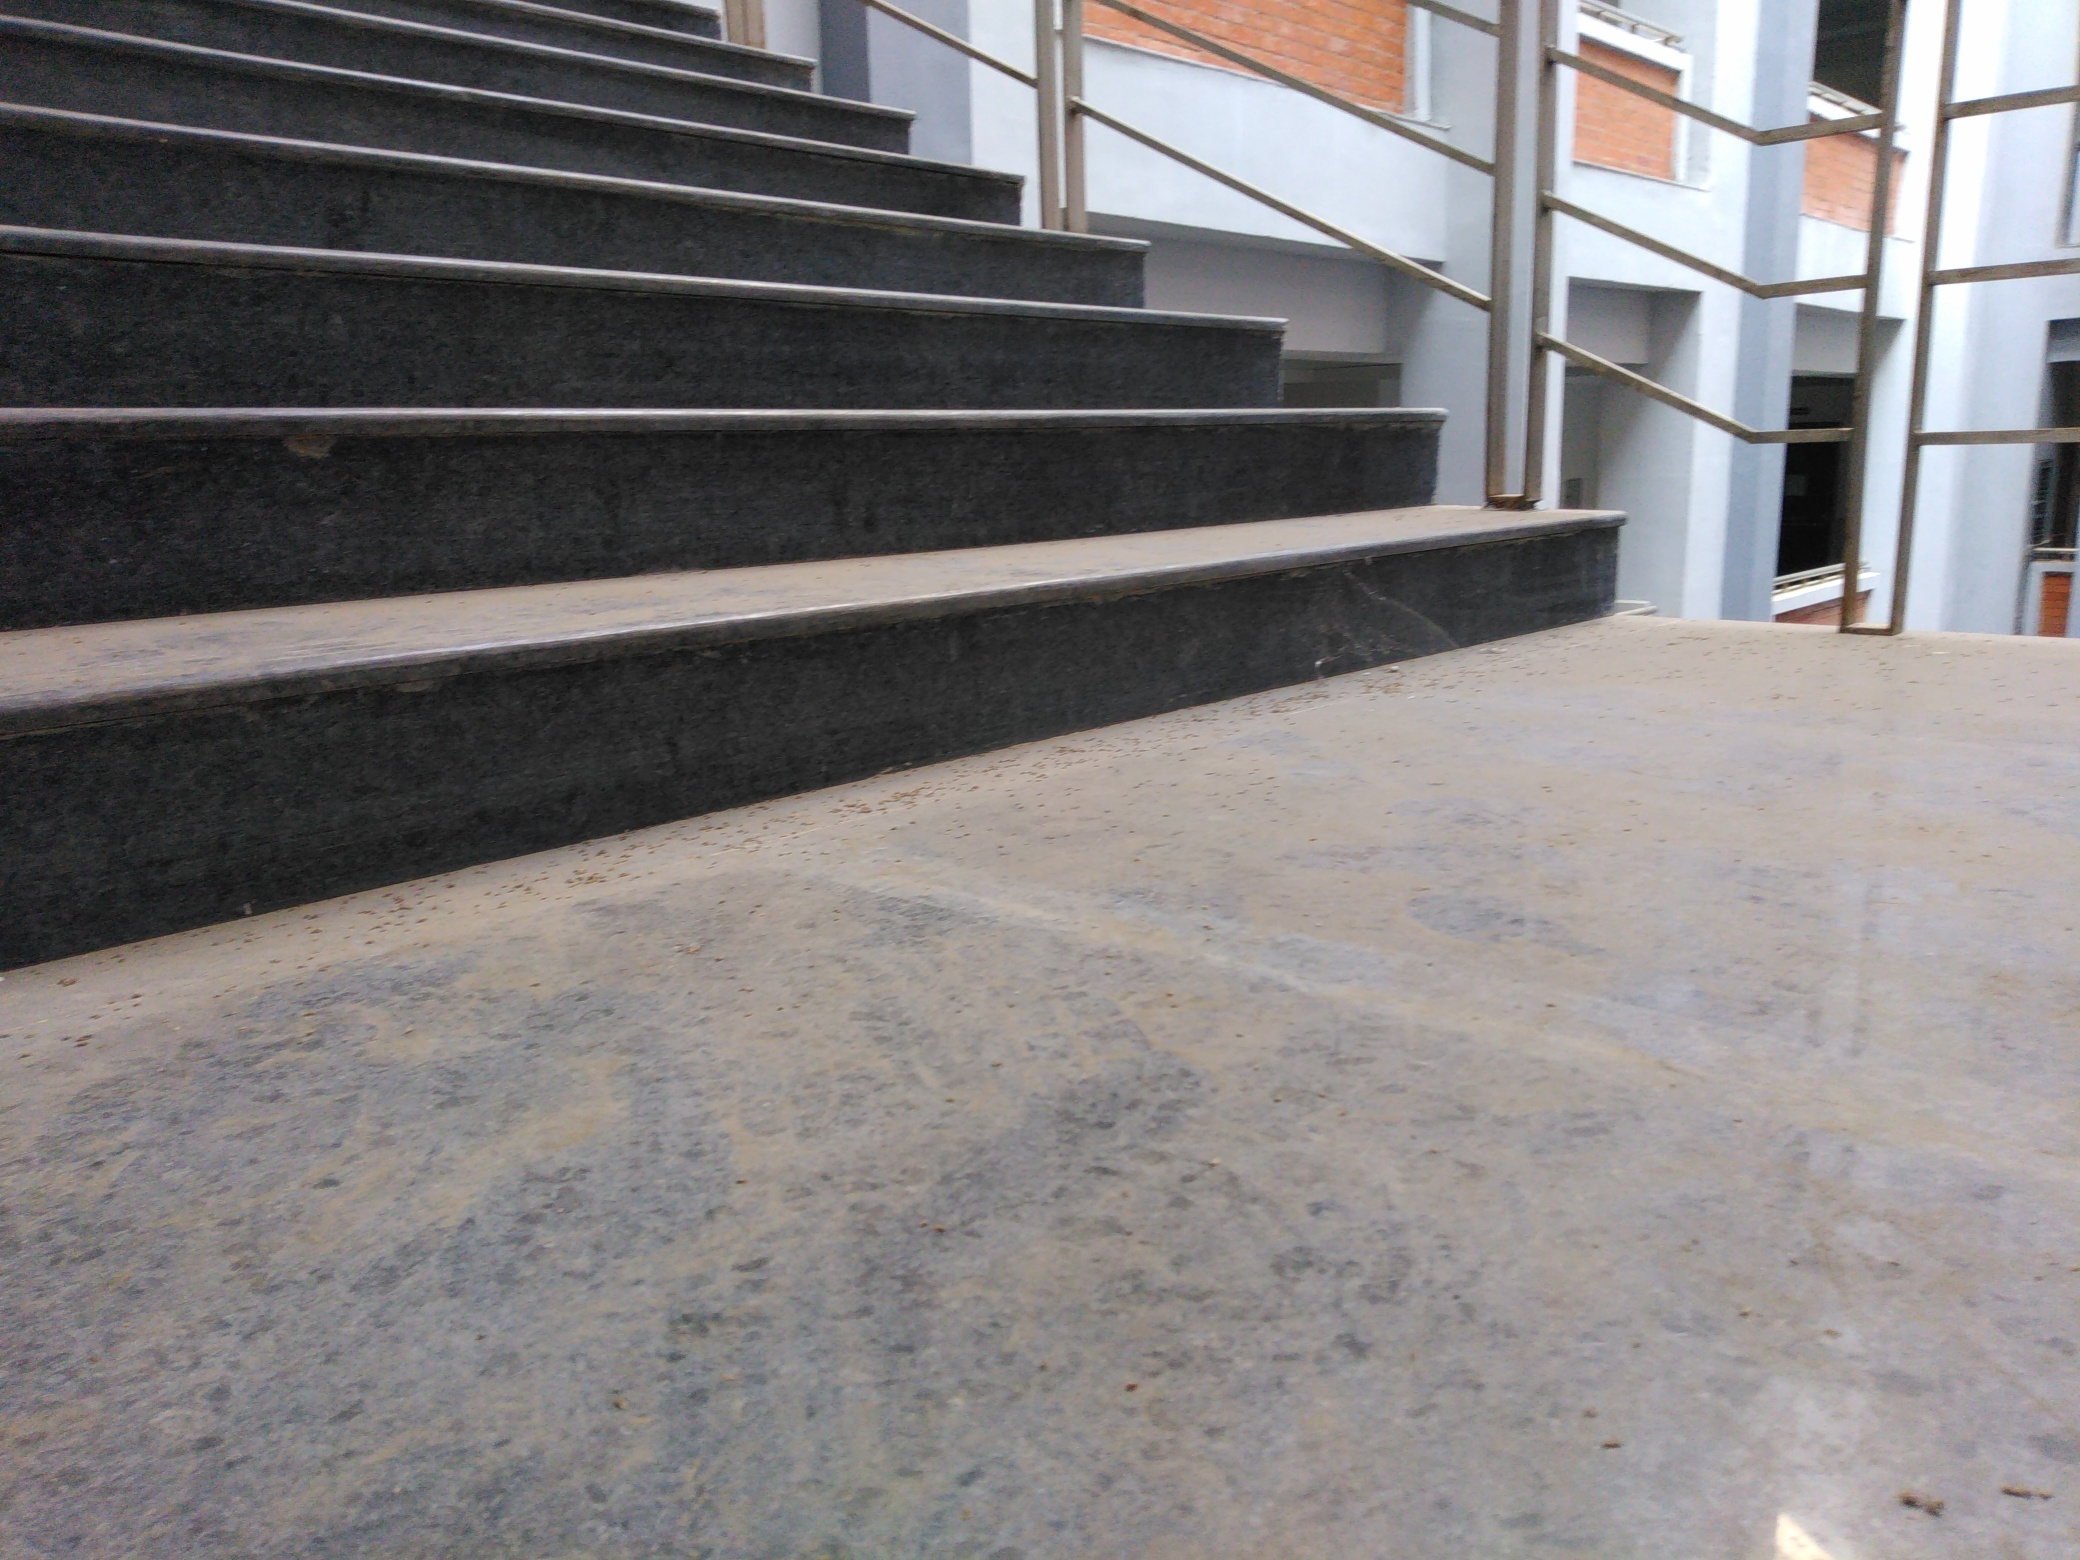stairs_up: (16, 16, 1418, 734)
